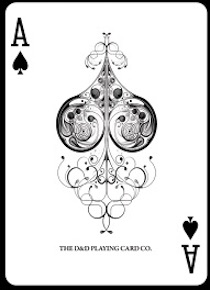AceOfSpades: (4, 3, 210, 289)
